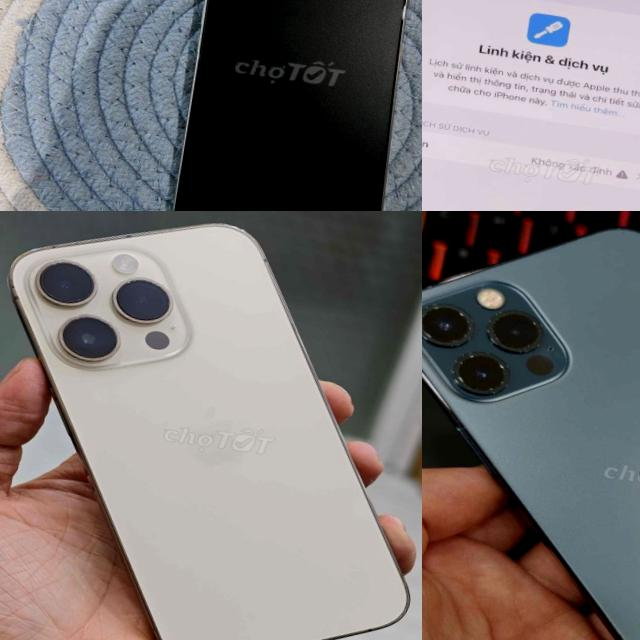scratch: (391, 0, 416, 27)
